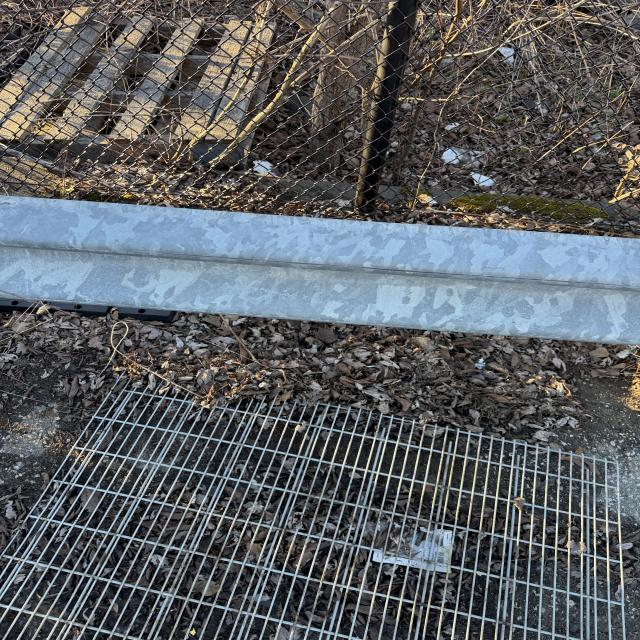Guard rail: (10, 203, 616, 331)
